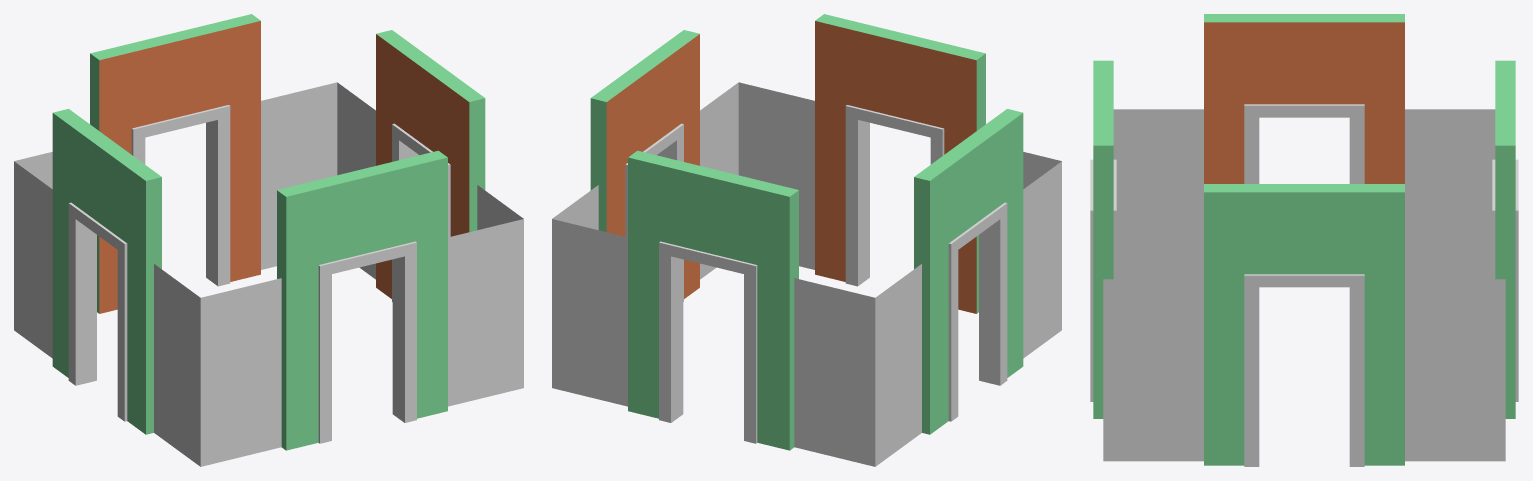
The model's file is Doortest.glb.
The picture shows the model from 3 angles, left to right: view 1: azimuth 30°, elevation 25°; view 2: azimuth 150°, elevation 25°; view 3: azimuth 270°, elevation 25°; orthographic projection. The views are drawn at different scales.
Visible parts, largest first — view 1: Doorframe.001; view 2: Doorframe.001; view 3: Doorframe.001.
Boxes of the visible parts, x1,y1,x2,y2 form: Doorframe.001: (14, 14, 523, 466); Doorframe.001: (552, 14, 1061, 466); Doorframe.001: (1090, 14, 1518, 466).
Bounding box in the file's own units: 4.26 × 3 × 4.26.
